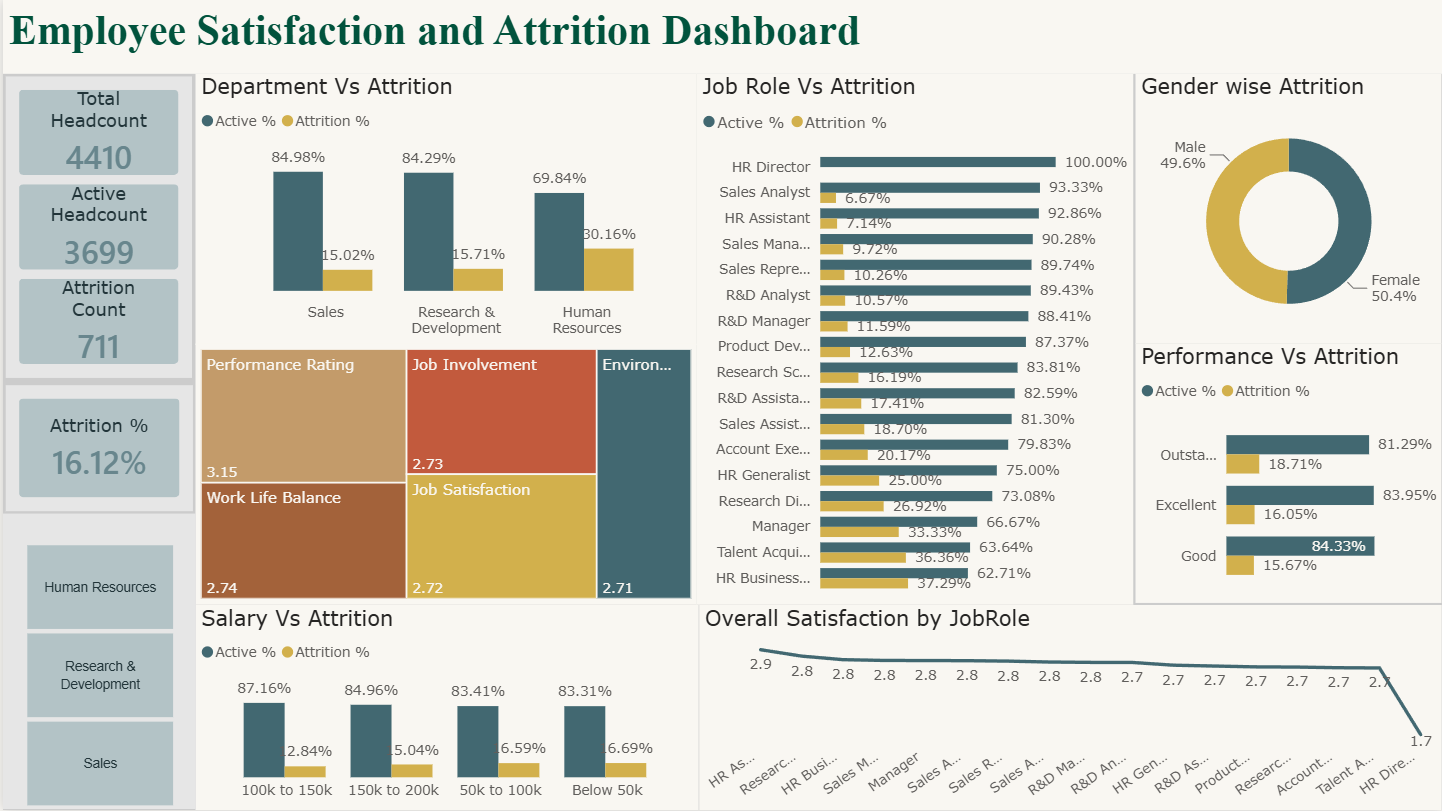

The page's visual inventory and layout, read from the dashboard file:
{"tool":"powerbi","page":{"name":"Page 1","canvas":[1280,720],"ordinal":0},"visuals":[{"type":"cardVisual","fields":{"Data":["Employee Details.Total Headcount","Employee Details.Active Headcount","Employee Details.Attrition Count"]},"box":[0,65.9,170.6,274.1],"z":0},{"type":"clusteredColumnChart","title":"Department Vs Attrition","fields":{"Category":["Employee Details.Department"],"Y":["Employee Details.Active %","Employee Details.Dept Attrition %"]},"box":[170.6,65.9,445.9,241.2],"z":1000},{"type":"cardVisual","fields":{"Data":["Employee Details.Dept Attrition %"]},"box":[0,340,171.8,116.5],"z":2000},{"type":"treemap","fields":{"Values":["Avg(Employee Rating.Environment Satisfaction)","Avg(Employee Rating.Job Satisfaction)","Avg(Employee Rating.Work Life Balance)","Avg(Manager Rating.Job Involvement)","Avg(Manager Rating.Performance Rating)"]},"box":[170.6,305.9,445.9,231.8],"z":3000},{"type":"clusteredBarChart","title":"Job Role Vs Attrition","fields":{"Category":["Employee Details.JobRole"],"Y":["Employee Details.Active %","Employee Details.Dept Attrition %"]},"box":[616.5,65.9,388.2,471.8],"z":4000},{"type":"donutChart","title":"Gender wise Attrition","fields":{"Category":["Employee Details.Gender"],"Y":["Employee Details.Active %"]},"box":[1007.1,65.9,272.9,240],"z":5000},{"type":"clusteredBarChart","title":"Performance Vs Attrition","fields":{"Category":["Employee Details.Performance Score"],"Y":["Employee Details.Active %","Employee Details.Dept Attrition %"]},"box":[1007.1,305.9,272.9,230.6],"z":6000},{"type":"clusteredColumnChart","title":"Salary Vs Attrition","fields":{"Category":["Employee Details.Income Slab"],"Y":["Employee Details.Active %","Employee Details.Dept Attrition %"]},"box":[170.6,537.6,447.1,182.4],"z":7000},{"type":"slicer","fields":{"Values":["Employee Details.Department"]},"box":[0,457,170.9,262.8],"z":8000},{"type":"lineChart","fields":{"Category":["Employee Details.JobRole"],"Y":["Employee Details.Overall Satisfaction"]},"box":[618.8,537.6,661.2,182.4],"z":9000},{"type":"textbox","box":[0,0,1280,65.9],"z":9001}]}

Visuals, with their boxes in screenshot pixels (x1, y1, x2, y2), scaled from the page's 1280x720 canvas onto the 1442x811 screenshot:
cardVisual - Employee Details.Total Headcount x Employee Details.Active Headcount: [x1=0, y1=74, x2=192, y2=383]
"Department Vs Attrition" clusteredColumnChart: [x1=192, y1=74, x2=695, y2=346]
cardVisual - Employee Details.Dept Attrition %: [x1=0, y1=383, x2=194, y2=514]
treemap - Avg(Employee Rating.Environment Satisfaction) x Avg(Employee Rating.Job Satisfaction): [x1=192, y1=345, x2=695, y2=606]
"Job Role Vs Attrition" clusteredBarChart: [x1=695, y1=74, x2=1132, y2=606]
"Gender wise Attrition" donutChart: [x1=1135, y1=74, x2=1441, y2=345]
"Performance Vs Attrition" clusteredBarChart: [x1=1135, y1=345, x2=1441, y2=604]
"Salary Vs Attrition" clusteredColumnChart: [x1=192, y1=606, x2=696, y2=810]
slicer - Employee Details.Department: [x1=0, y1=515, x2=193, y2=810]
lineChart - Employee Details.JobRole x Employee Details.Overall Satisfaction: [x1=697, y1=606, x2=1441, y2=810]
textbox: [x1=0, y1=0, x2=1441, y2=74]
